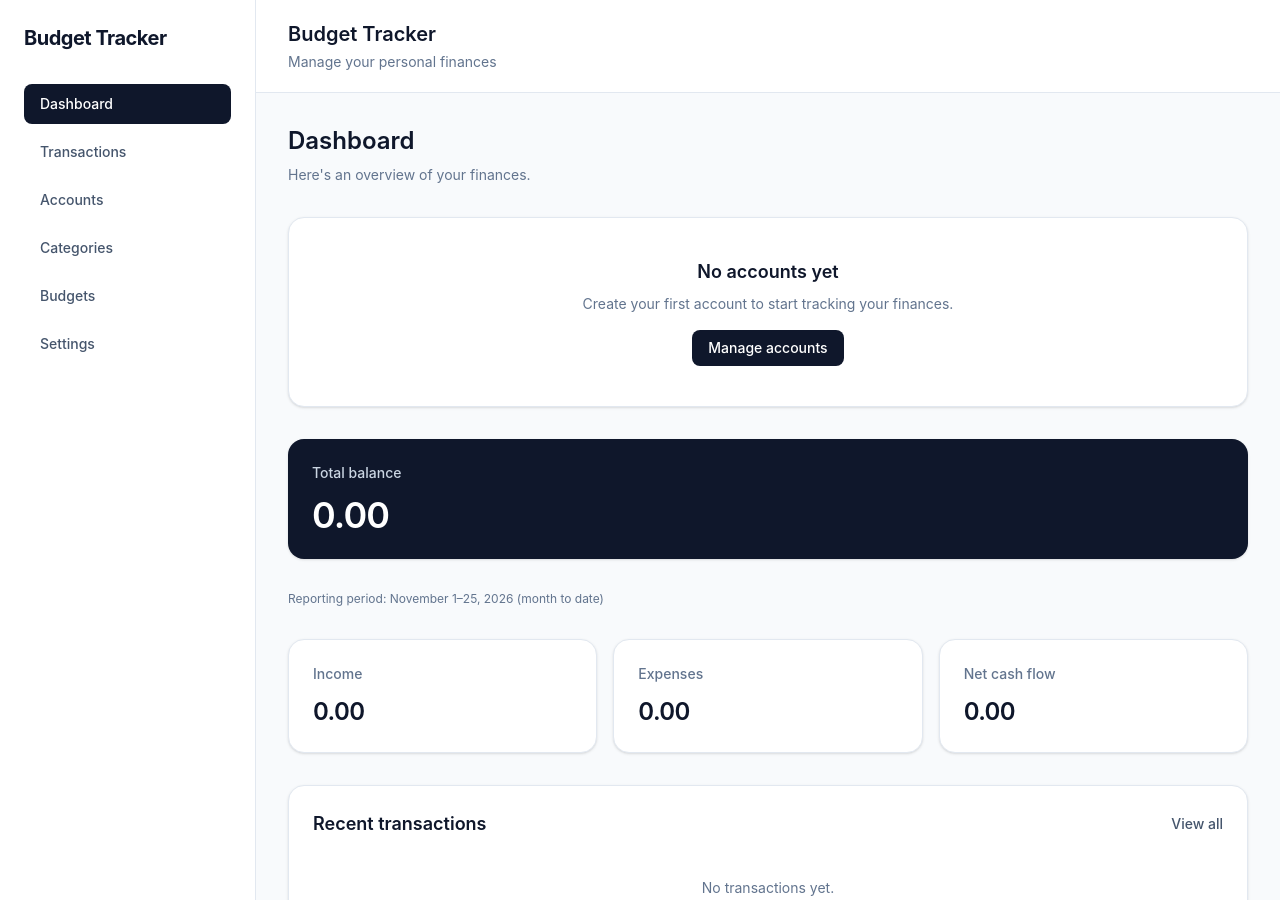
Test: App › navigates to the Transactions page
What coordinates should you click on to do the following:
click the button "Transactions"
I would click on:
 (128, 152)
Its box is [24,132,231,172].
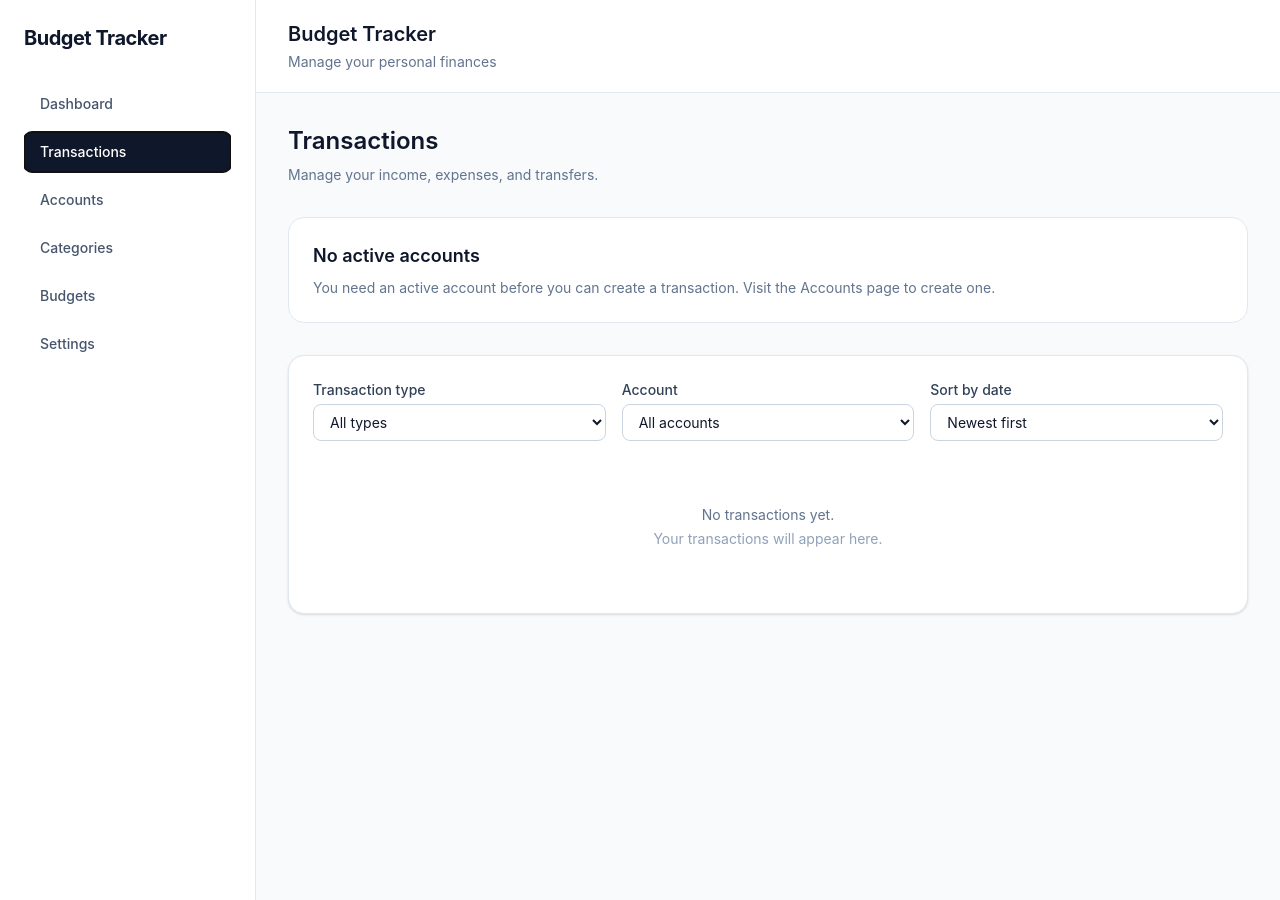
Check: the heading "Transactions" is shown, box [288,126,438,155]
